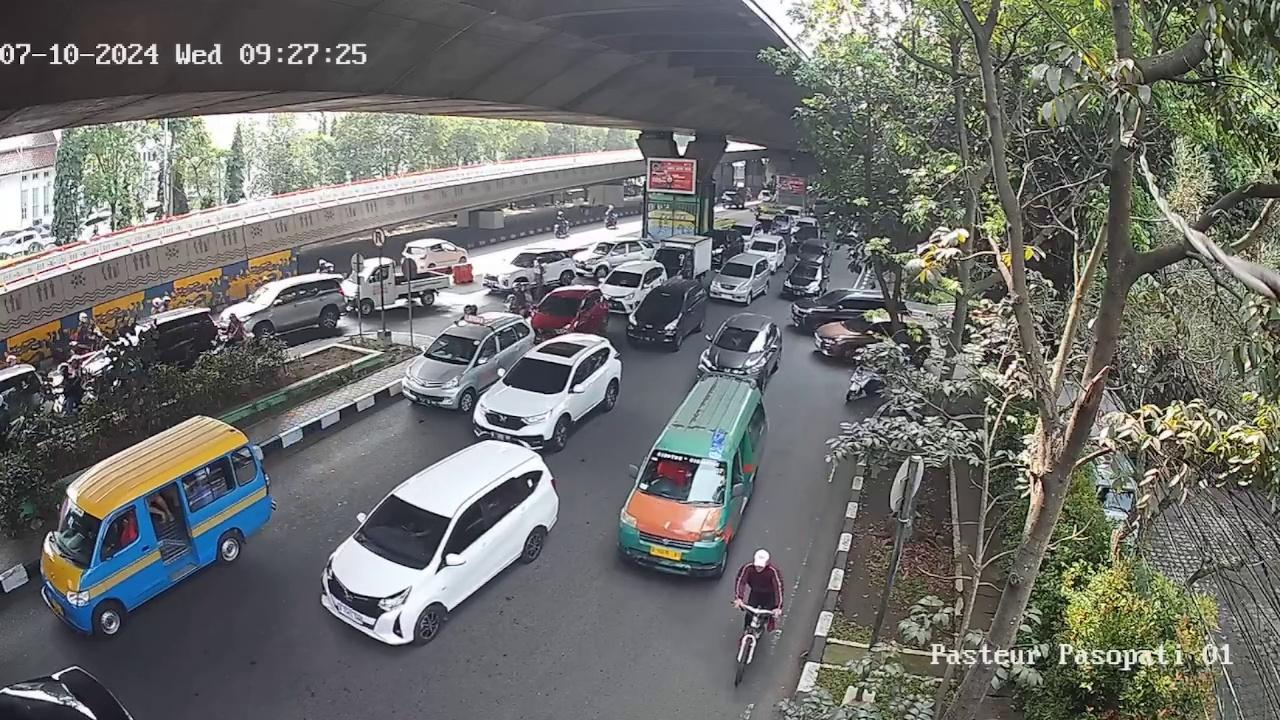tidak-pakai: (650, 456, 694, 487)
windshield: (359, 495, 449, 556), (636, 449, 731, 502), (53, 496, 106, 556), (509, 356, 574, 391), (432, 333, 477, 364), (712, 329, 766, 352), (636, 293, 684, 318), (539, 295, 577, 314)
